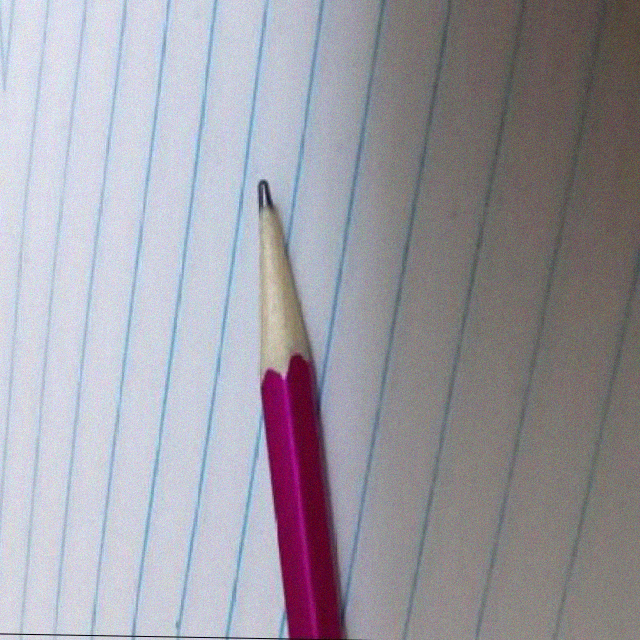pencil: (230, 171, 314, 384)
